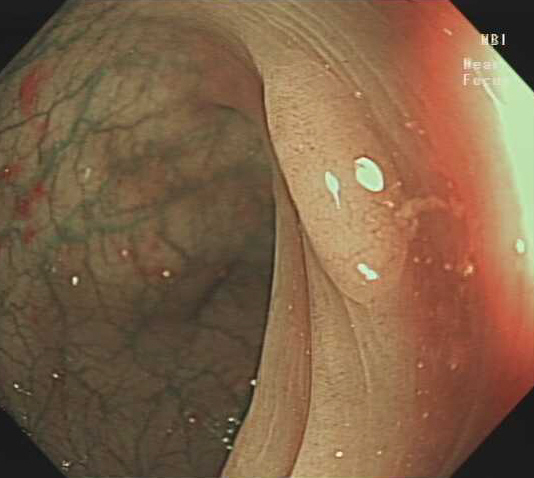adenoma: (256, 51, 418, 307)
